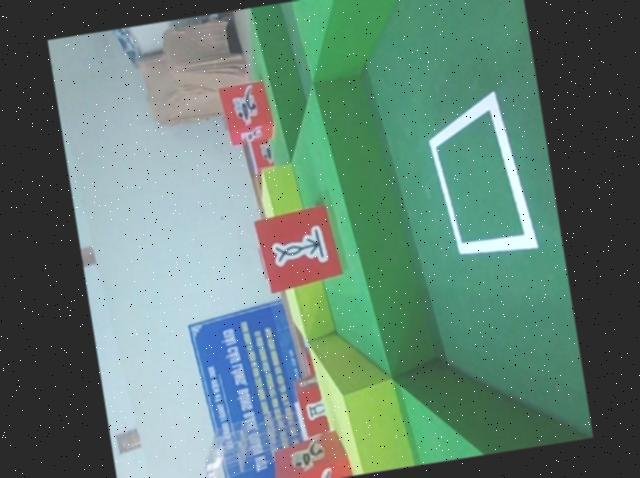R1: (267, 422, 363, 478), (216, 78, 280, 152)
R2 Real: (249, 203, 350, 296)
